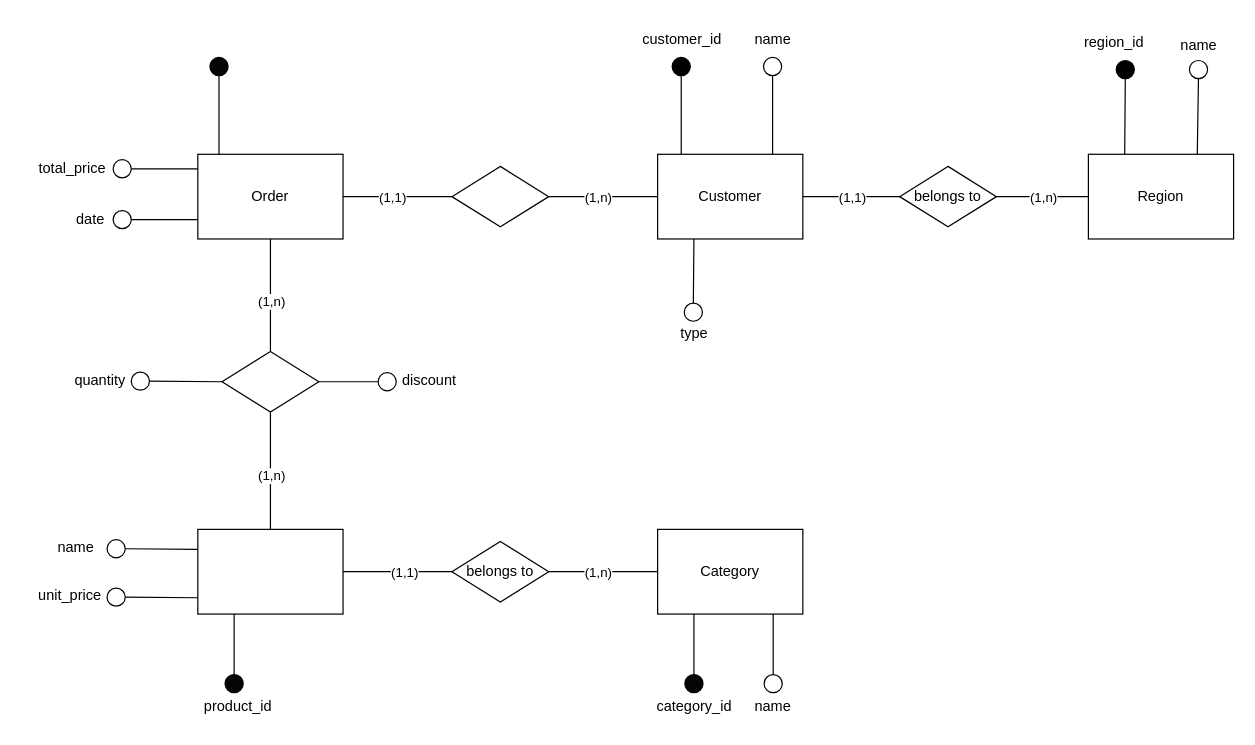
This 1255x745 diagram has some shape labels left out. Each missing label, with the box of its shape:
has: (221, 350, 319, 412)
places: (451, 165, 549, 227)
Product: (197, 528, 343, 614)
